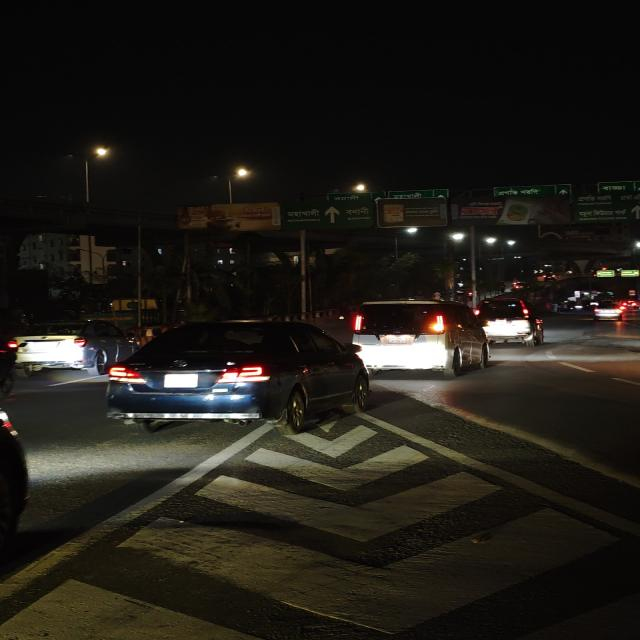car: (102, 317, 371, 439), (345, 298, 494, 380), (9, 318, 129, 376), (474, 298, 547, 348), (586, 298, 627, 324)
